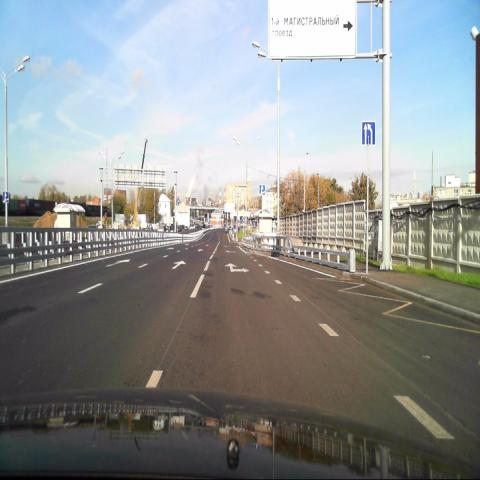5_15_5: (362, 122, 375, 146)
